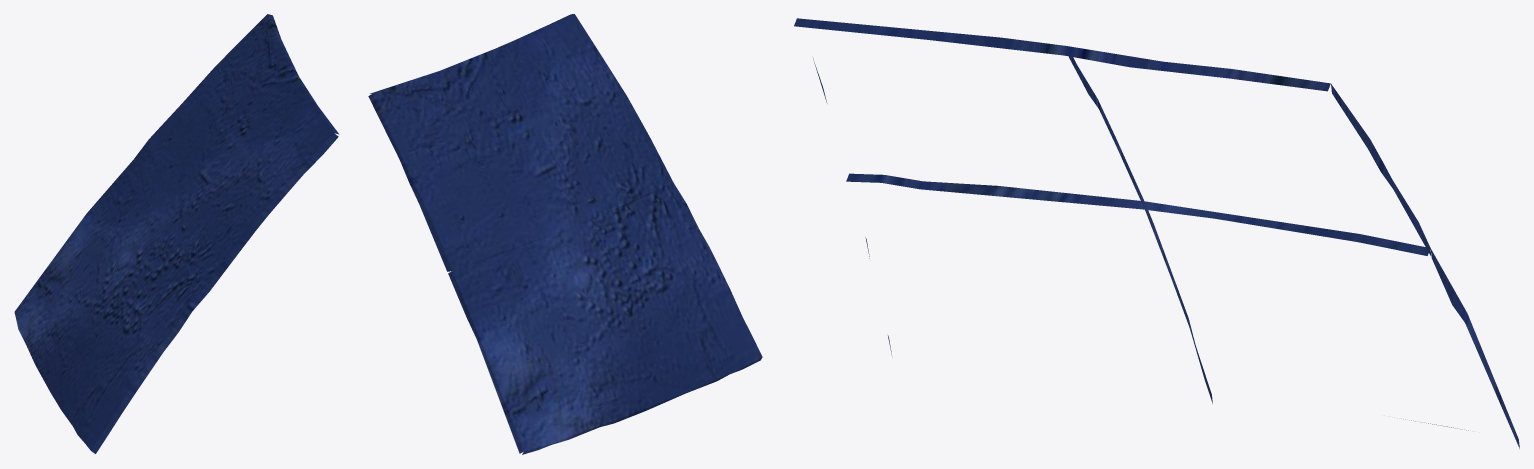
The picture shows the model from 3 angles, left to right: view 1: azimuth 30°, elevation 25°; view 2: azimuth 150°, elevation 25°; view 3: azimuth 270°, elevation 25°; orthographic projection. The views are drawn at different scales.
Bounding box in the file's own units: 1049621 × 987459 × 1161846.
Materials: 1 (1 with a texture image).
